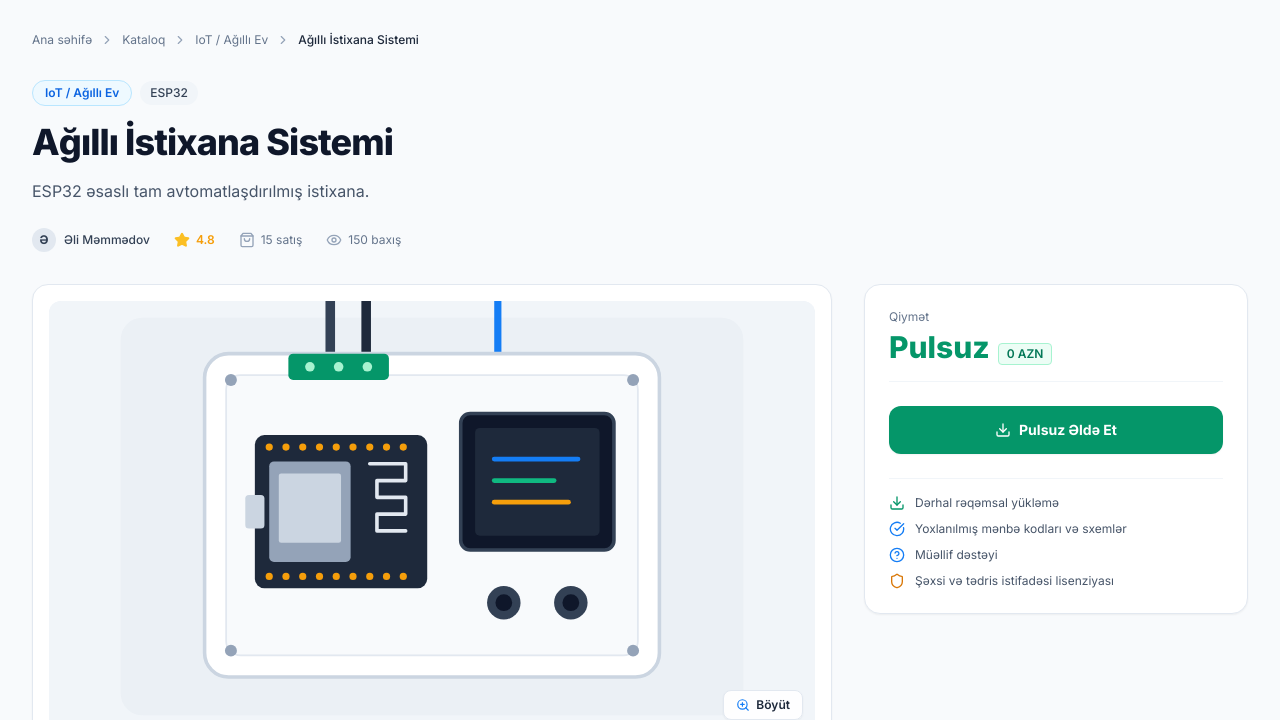
Test: ProjectDetailsPage Component › calls claimFreeProject and displays success banner when authenticated user claims
Click the button "Pulsuz Əldə Et" at coordinates (1056, 430), box [889,406,1223,454]
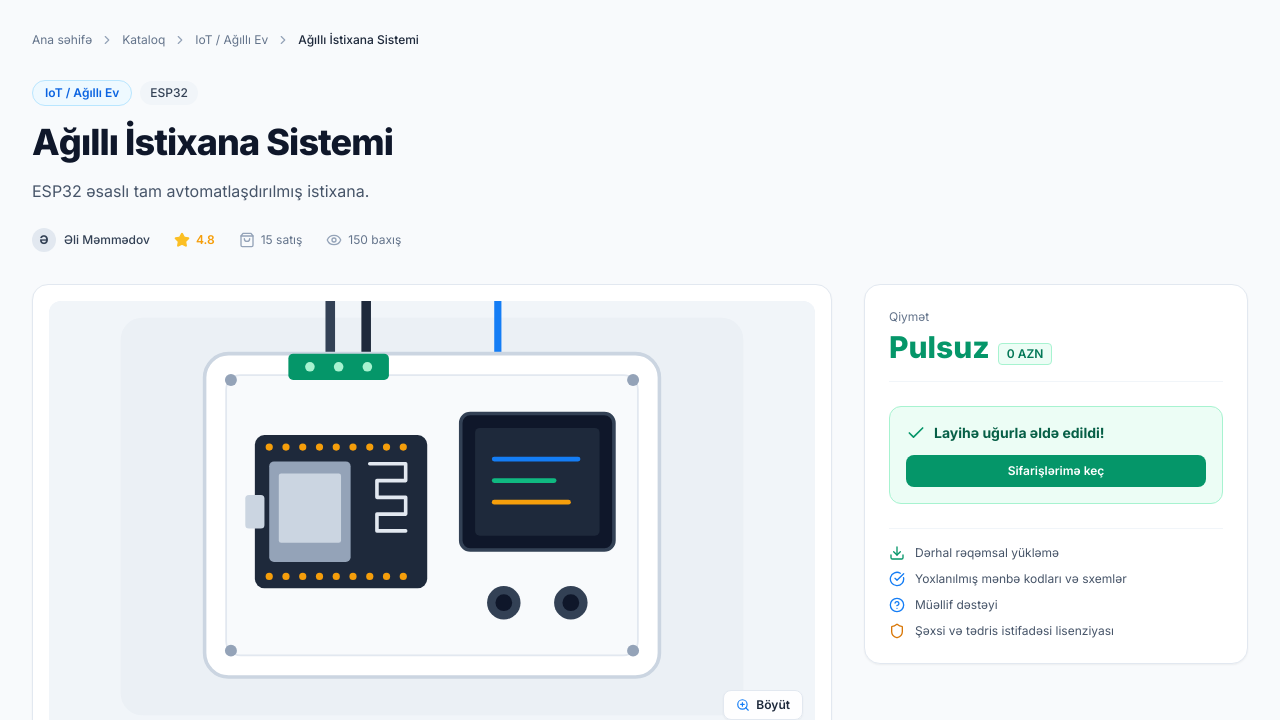
Expected: the text "Layihə uğurla əldə edildi!" is shown, [934,423,1105,443]
Expected: the link "Sifarişlərimə keç" is shown, [906,455,1206,487]
